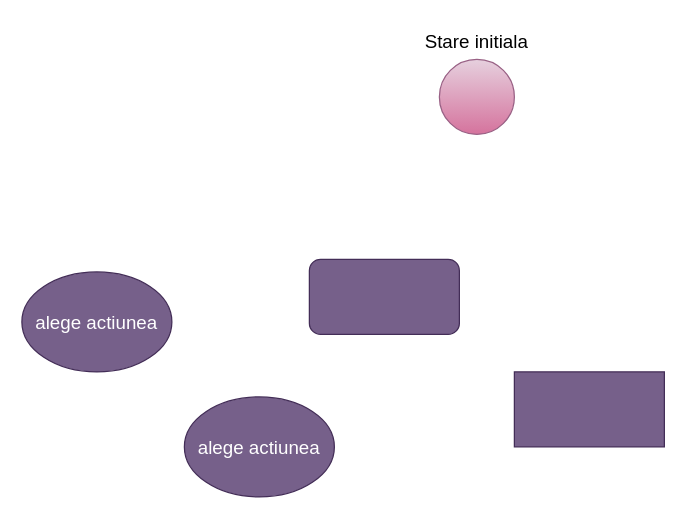
This 686x519 diagram has some shape labels left out. The shapes that lost their labels are listed below. From the top down, each one's centre as x and y in pixels, then its label:
(383,296): autentificare client
(588,409): interfata client
